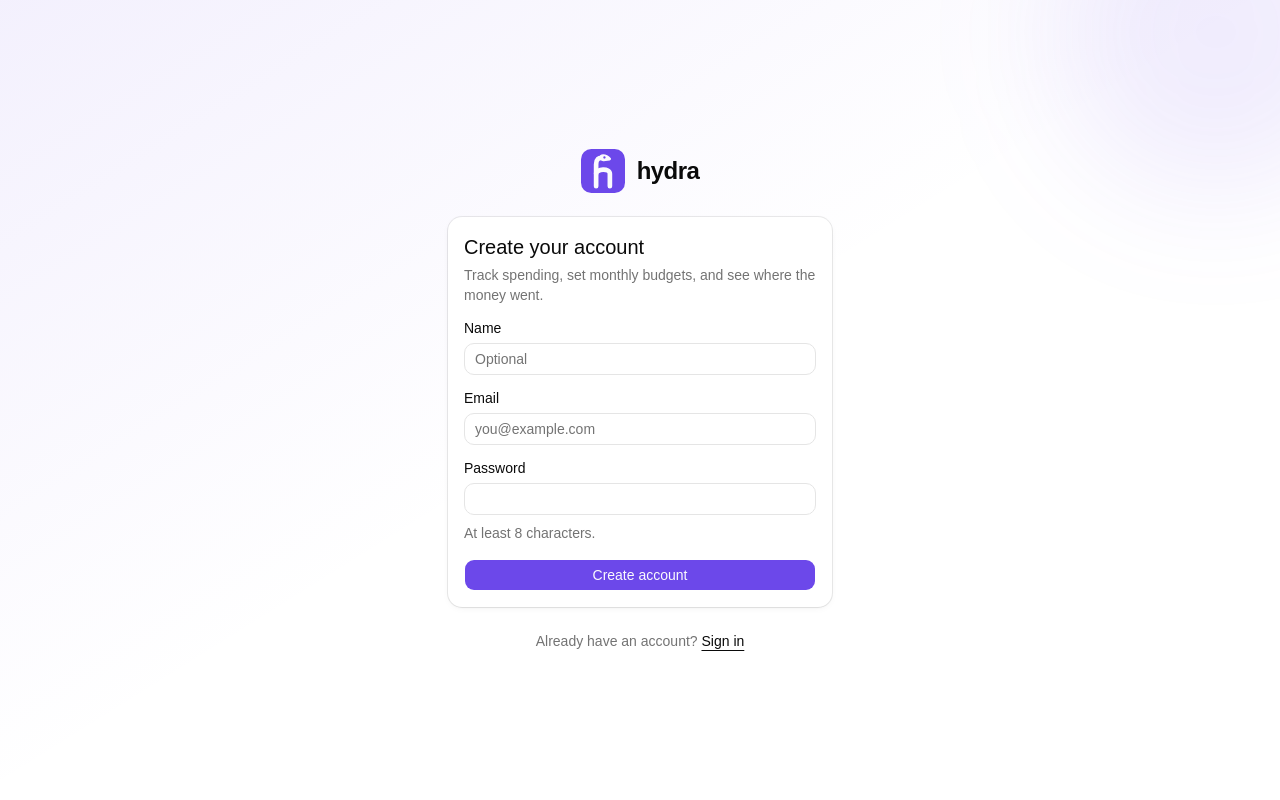
sign-up page › keeps what was typed while the invite preview was still in flight
Type "Alex Rivera" into the field labelled "Name" at (640, 359), box [464, 343, 816, 375]
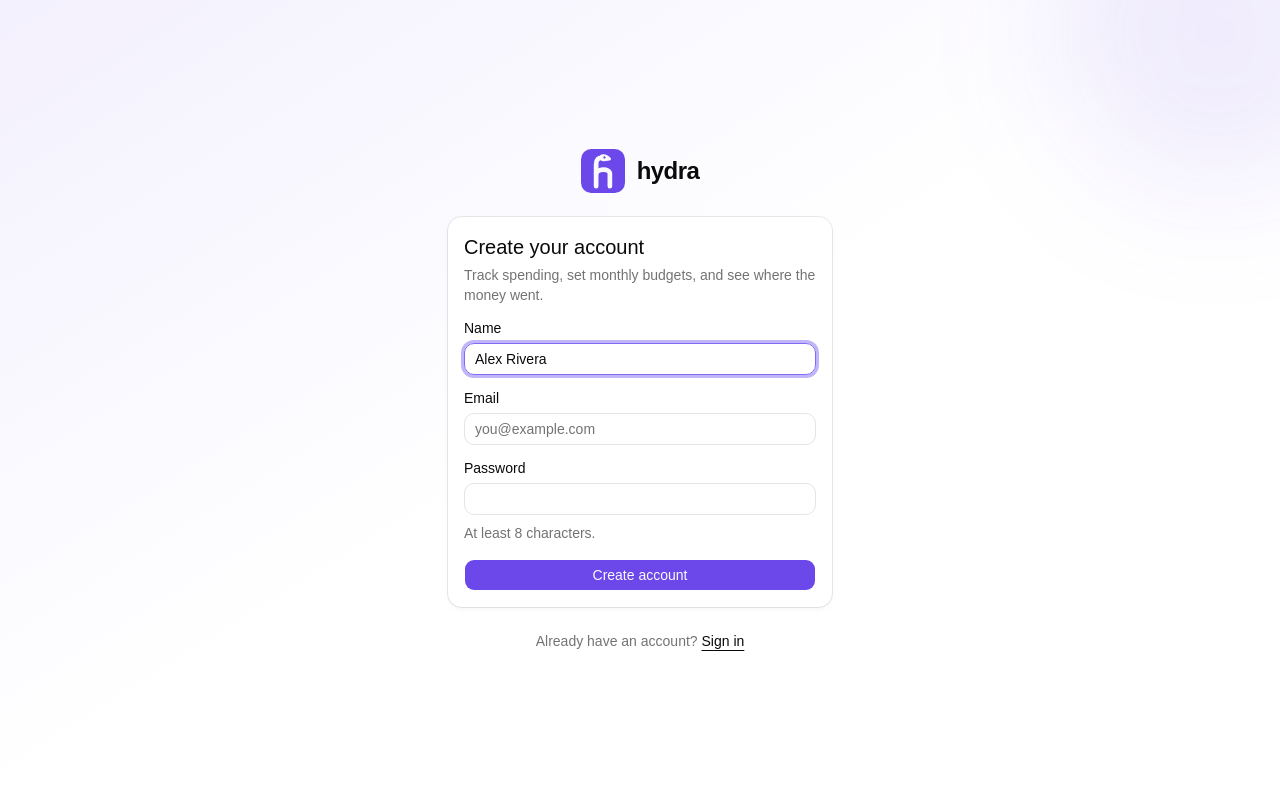
Type "alex@example.com" into the field labelled "Email" at (640, 429), box [464, 413, 816, 445]
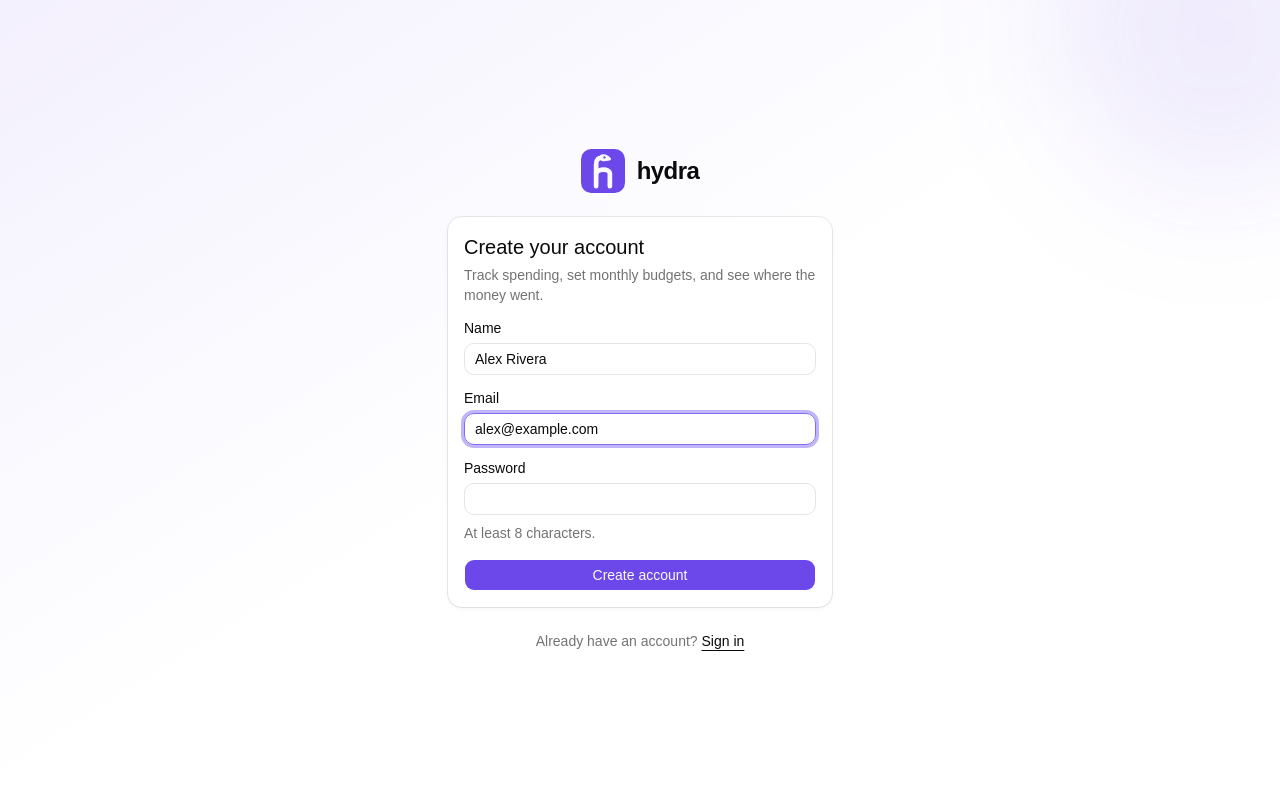
Type "correct horse" into the password field labelled "Password" at (640, 499), box [464, 483, 816, 515]
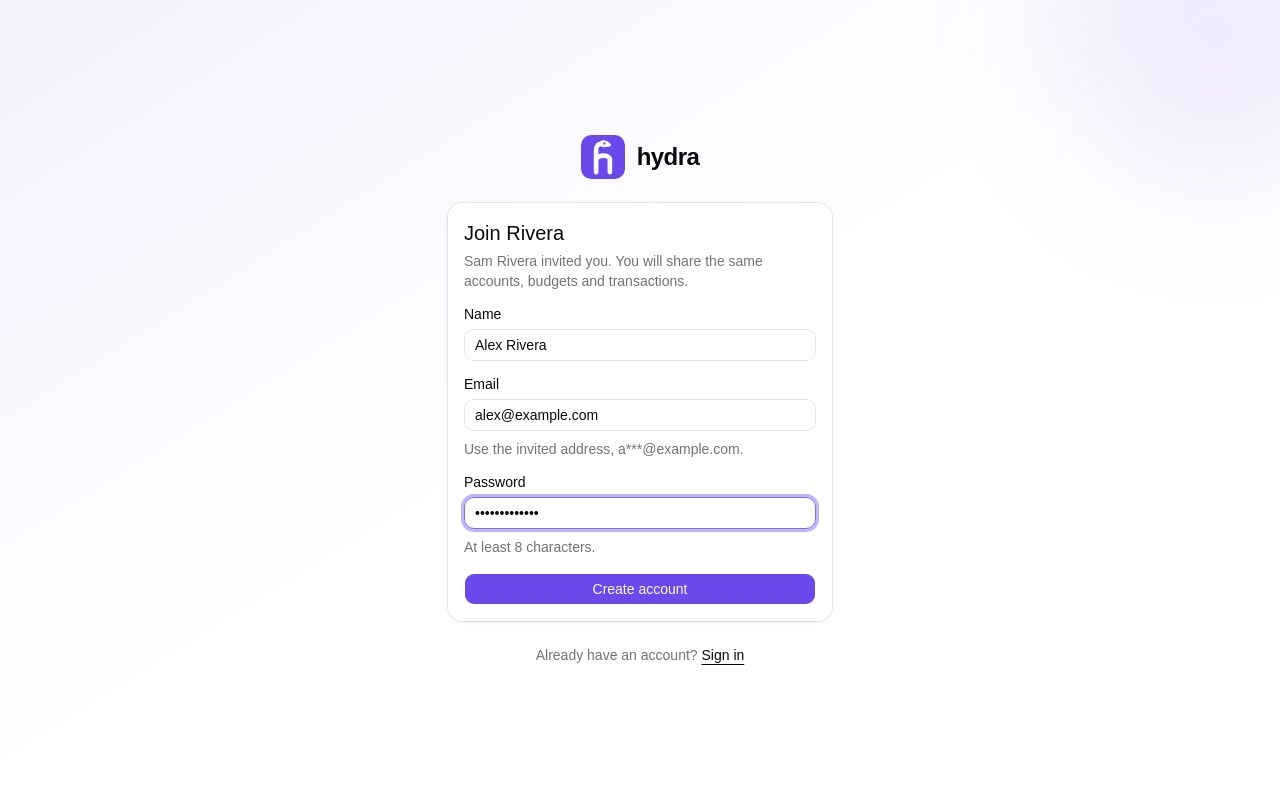
Result: the text "Use the invited address, a***@example.com." is shown at [464, 441, 744, 457]
